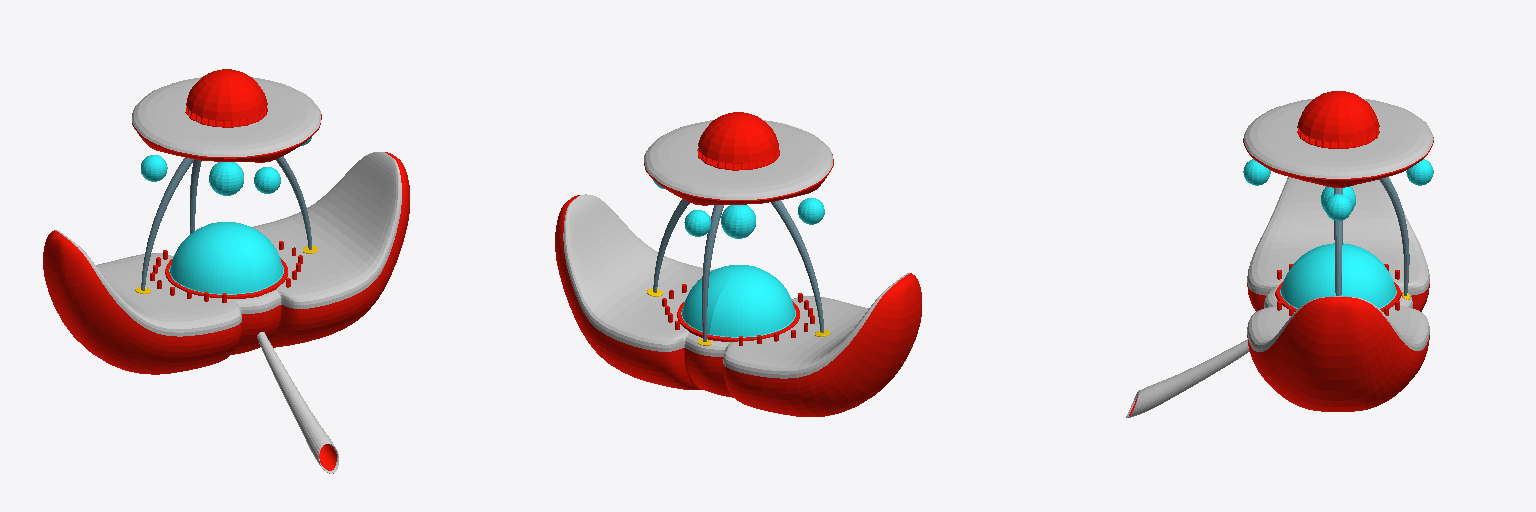
Rendered from kyojima_station.obj.
3 views of the same model, side by side, from view 1: azimuth 30°, elevation 25°; view 2: azimuth 150°, elevation 25°; view 3: azimuth 270°, elevation 25° (orthographic).
Visible parts, largest first — view 1: 立方体, 球, 球.004, NURBSパス, NURBSパス.002, 球.001, 球.002, 円柱; view 2: 立方体, 球, 球.004, NURBSパス.002, 球.001, 球.002, NURBSパス.001_NURBSパス.005, 円柱; view 3: 立方体, 球, 球.004, NURBSパス, 球.001, NURBSパス.001_NURBSパス.005, NURBSパス.002.
Boxes of the visible parts, x1,y1,x2,y2 form: 立方体: [43, 152, 409, 374]; 球: [132, 77, 321, 162]; 球.004: [185, 69, 267, 127]; NURBSパス: [257, 332, 338, 473]; NURBSパス.002: [141, 156, 311, 290]; 球.001: [141, 137, 311, 193]; 球.002: [209, 162, 243, 195]; 円柱: [150, 241, 302, 302]; 立方体: [555, 194, 921, 416]; 球: [644, 120, 833, 205]; 球.004: [697, 112, 779, 170]; NURBSパス.002: [653, 199, 823, 332]; 球.001: [653, 180, 824, 236]; 球.002: [721, 205, 755, 238]; NURBSパス.001_NURBSパス.005: [702, 205, 723, 341]; 円柱: [662, 284, 814, 345]; 立方体: [1247, 177, 1429, 411]; 球: [1243, 99, 1433, 187]; 球.004: [1297, 91, 1379, 148]; NURBSパス: [1126, 339, 1249, 417]; 球.001: [1243, 159, 1433, 220]; NURBSパス.001_NURBSパス.005: [1379, 177, 1409, 295]; NURBSパス.002: [1334, 188, 1342, 295].
Bounding box in the file's own units: 0.4242 × 0.3753 × 0.3244.